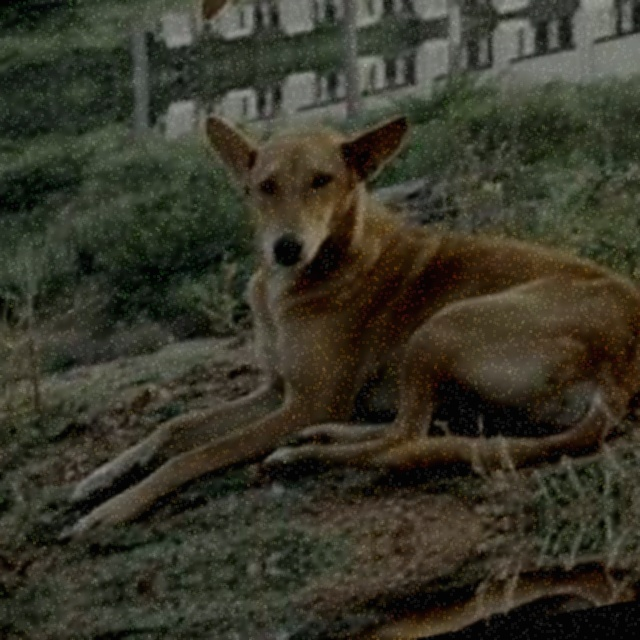dog: (58, 46, 640, 582), (73, 510, 640, 640), (52, 0, 640, 38)
